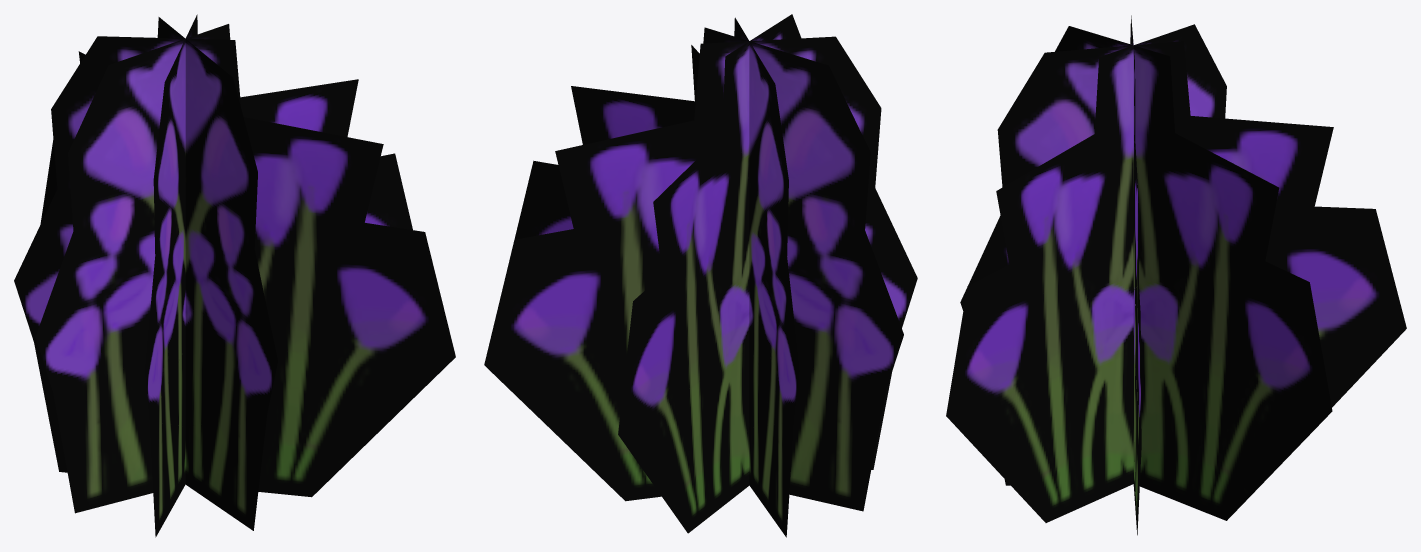
File: SM_FlowersPlant_07.fbx
3 renders of one model, left to right at view 1: azimuth 30°, elevation 25°; view 2: azimuth 150°, elevation 25°; view 3: azimuth 270°, elevation 25°, orthographic.
Parts seen in each view (by area): view 1: SM_FlowersPlant_07; view 2: SM_FlowersPlant_07; view 3: SM_FlowersPlant_07.
Part boxes in pixels (x1,y1,x2,y2): SM_FlowersPlant_07: [14, 14, 455, 537]; SM_FlowersPlant_07: [484, 14, 917, 537]; SM_FlowersPlant_07: [946, 15, 1406, 535].
Size of the model in its own units: 28.91 by 29.83 by 31.58.
1 material, 1 textured.
